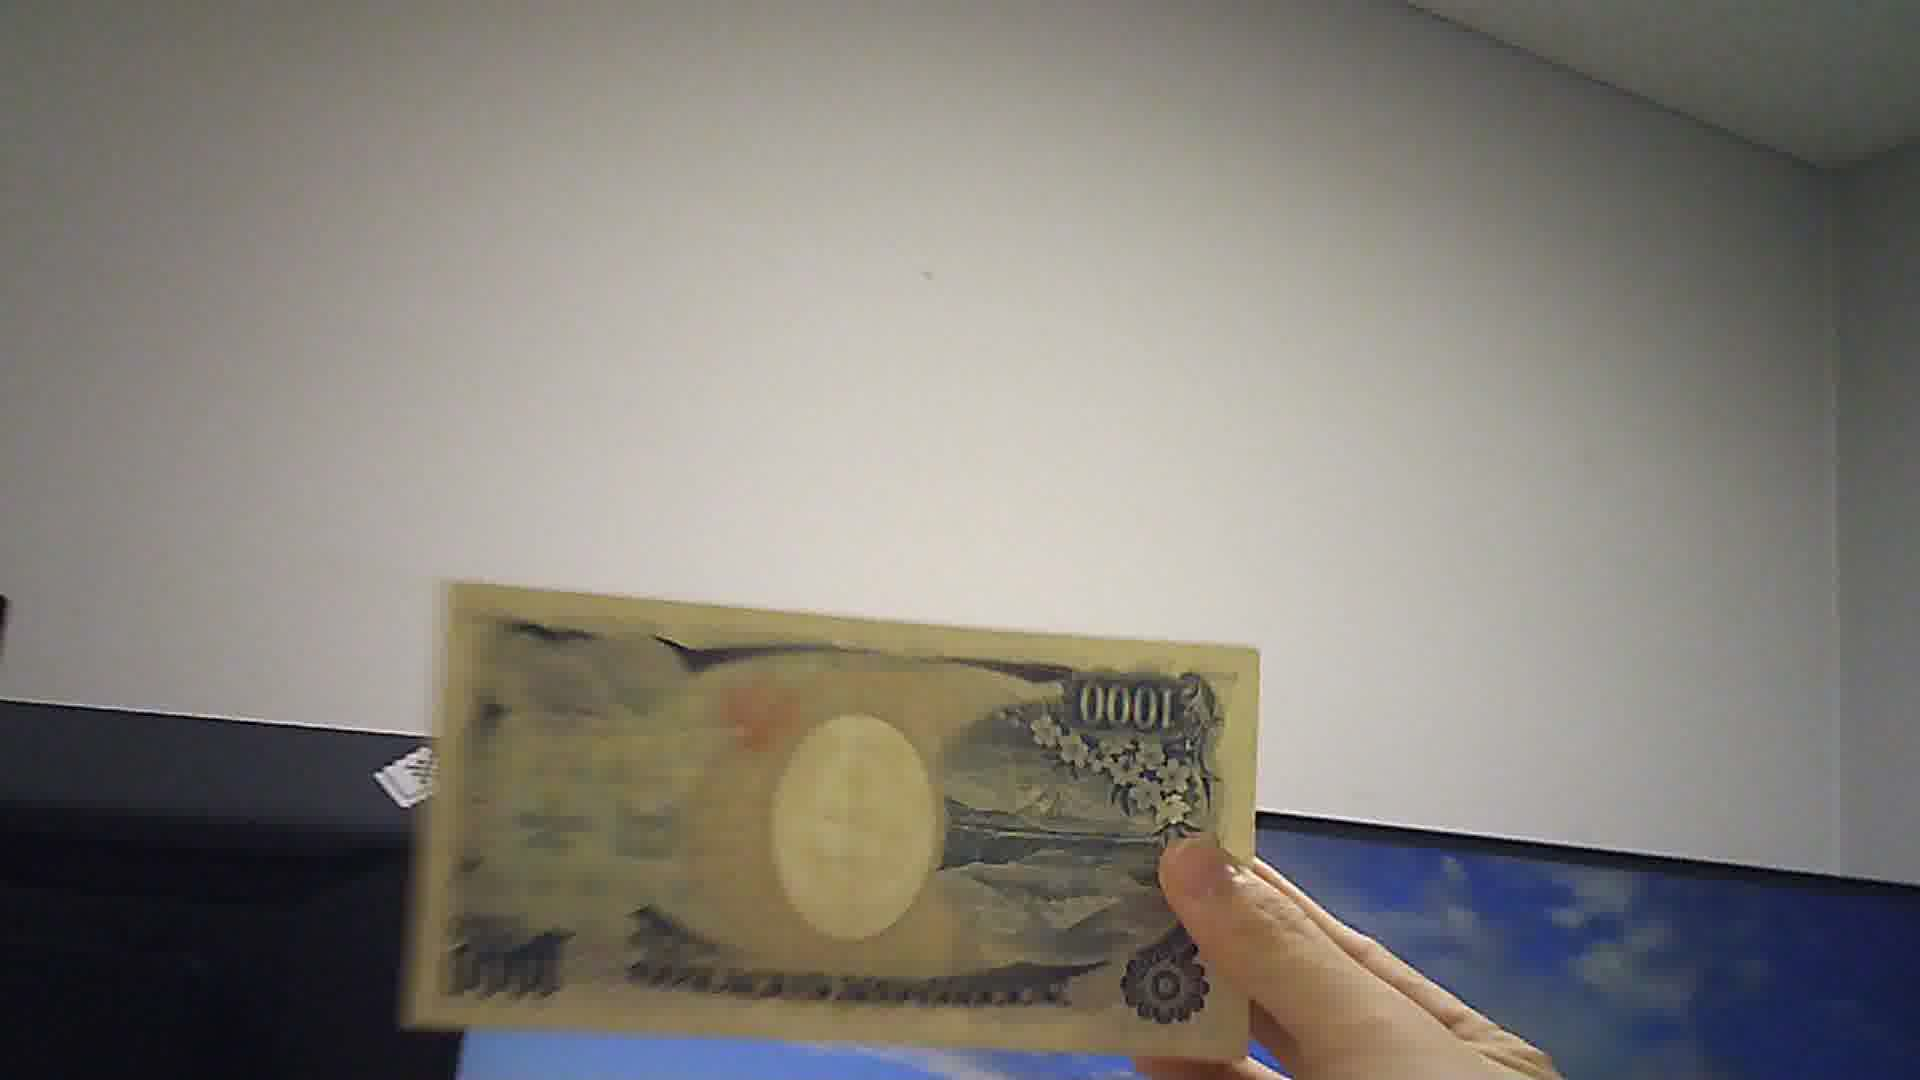1,000 Yen: (414, 572, 1251, 1051)
